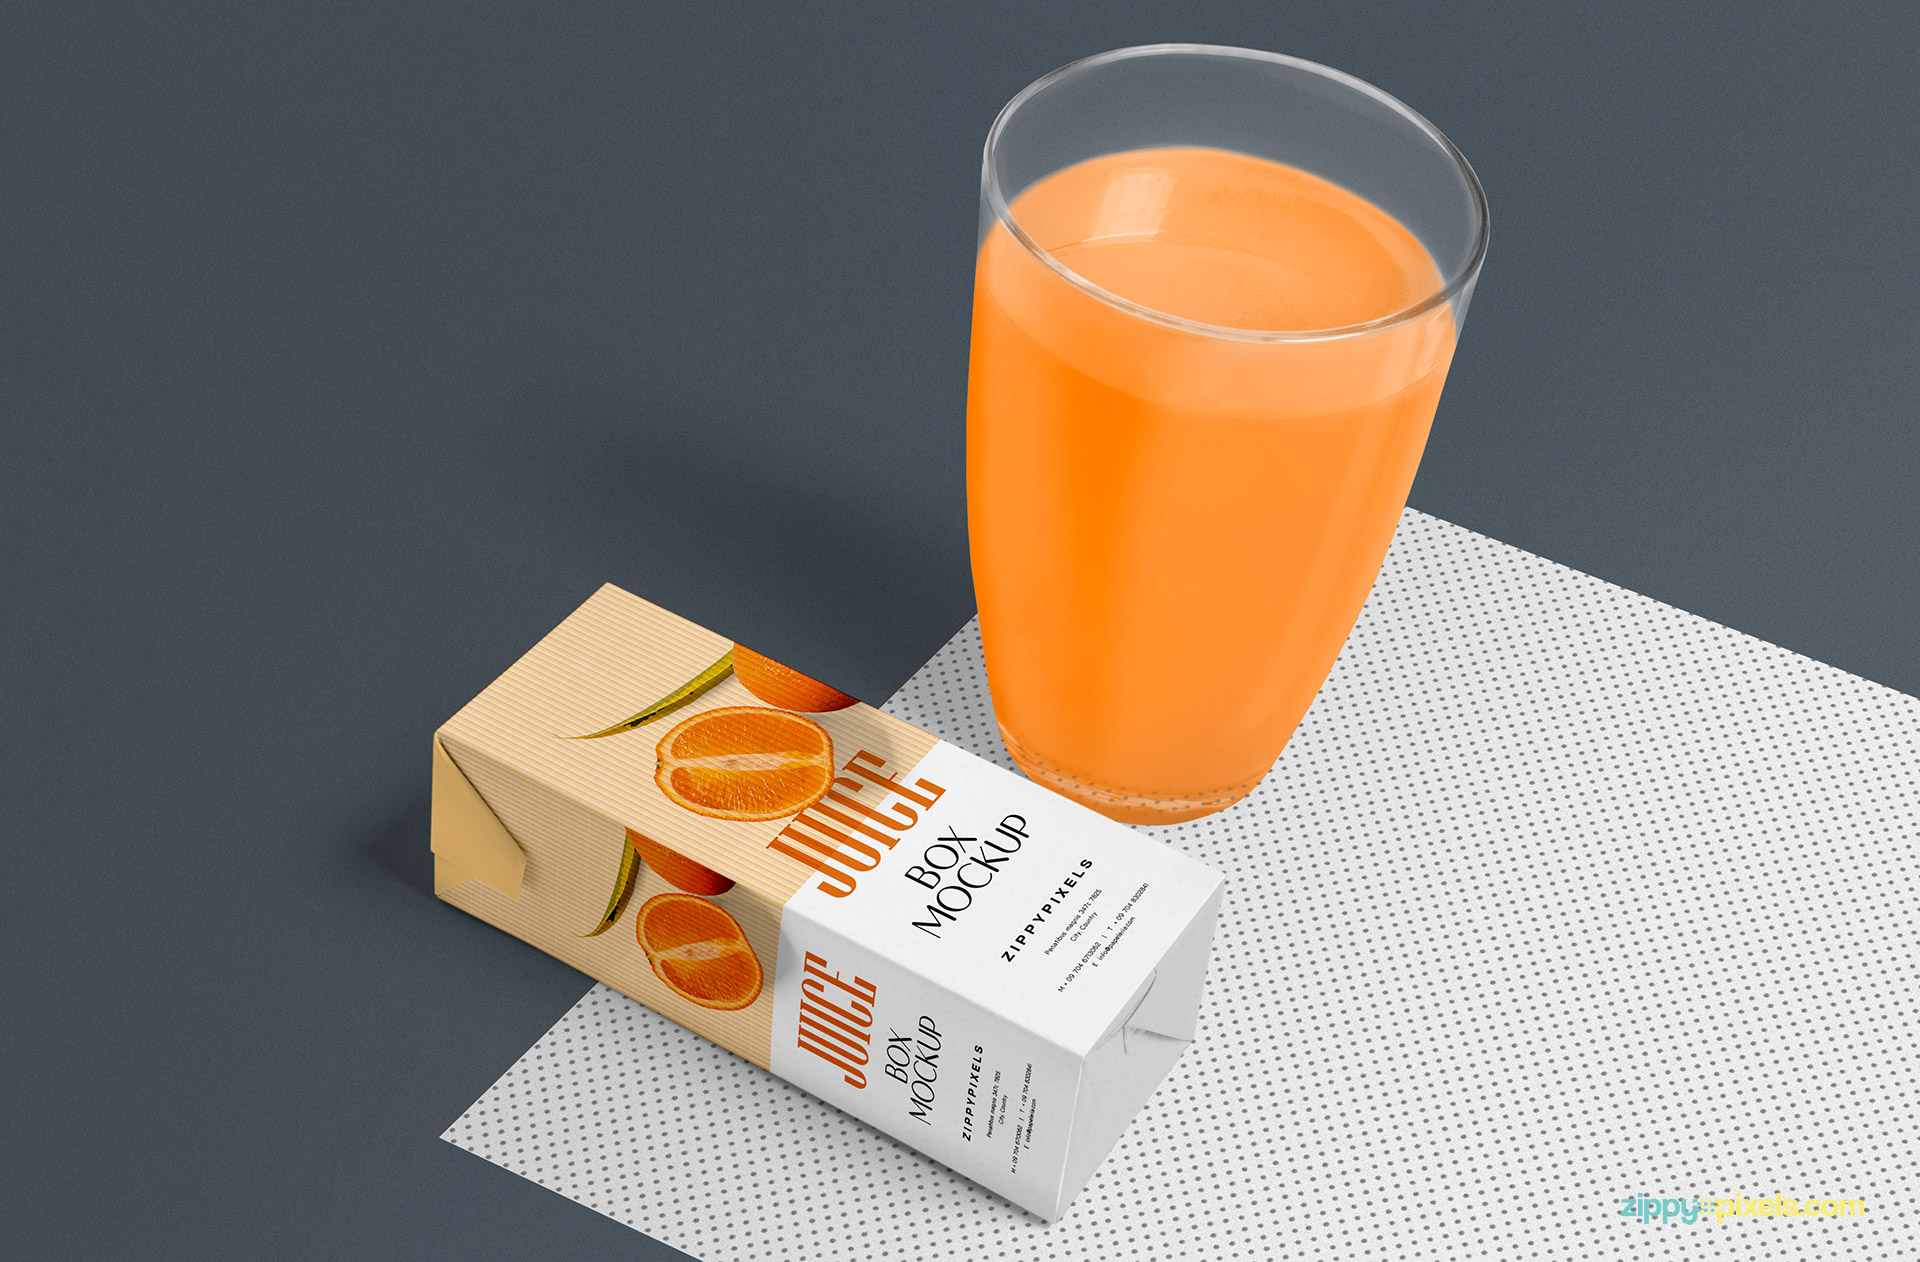Juice_Box: (442, 587, 1234, 1216)
